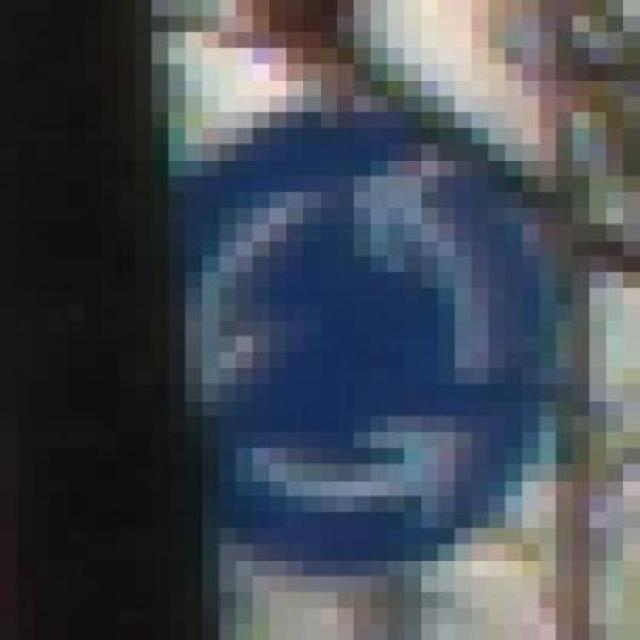Round-About: (152, 64, 590, 608)
